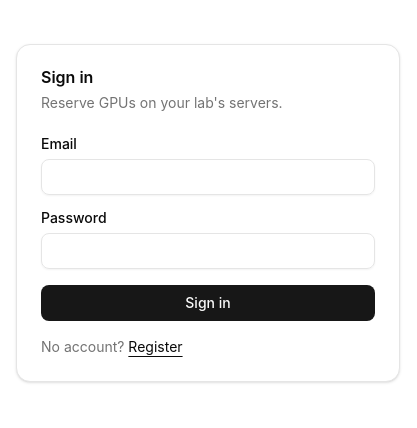
Test: login › validates before sending anything
Click the button "Sign in": coordinates (208, 303) [41, 285, 375, 321]
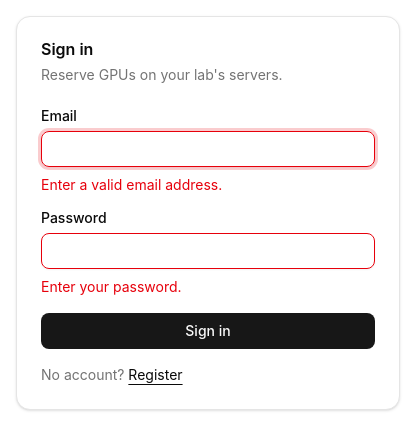
Now the text "Enter a valid email address." is shown, box [41, 176, 222, 193]
Now the text "Enter your password." is shown, box [41, 278, 182, 295]
